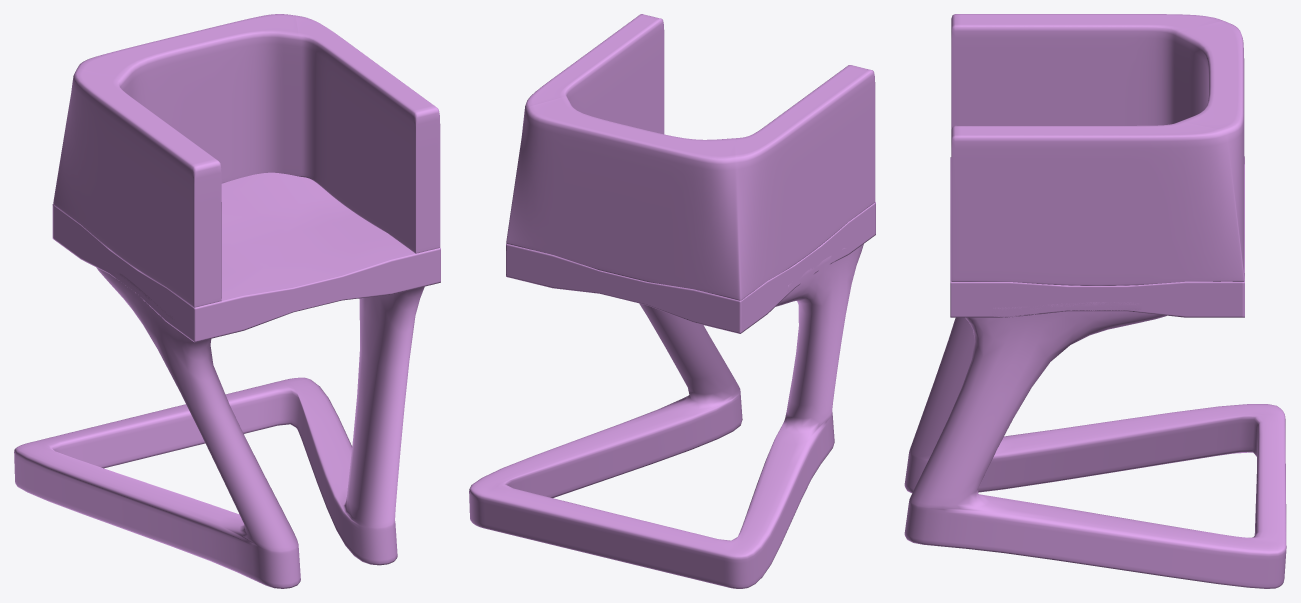
File: chair_8a4a3a90.glb
The picture shows the model from 3 angles, left to right: view 1: azimuth 30°, elevation 25°; view 2: azimuth 150°, elevation 25°; view 3: azimuth 270°, elevation 25°; orthographic projection. The views are drawn at different scales.
Visible parts, largest first — view 1: Object_2; view 2: Object_2; view 3: Object_2.
Part boxes in pixels (x1,y1,x2,y2): Object_2: (14, 14, 440, 588); Object_2: (469, 14, 875, 588); Object_2: (904, 14, 1286, 588).
Bounding box in the file's own units: 1.11 × 1.53 × 1.2.
